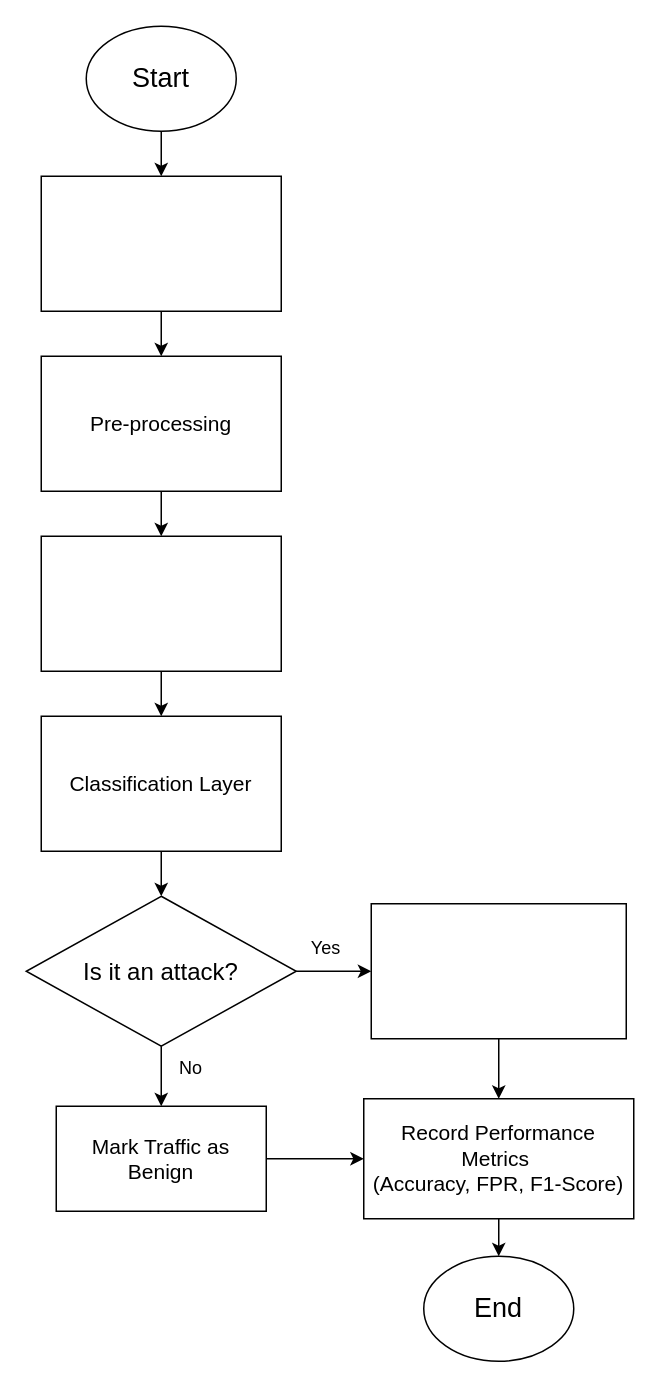
Image size: 660x1388. Some labels were removed from this diagram. Here are the shapes that lost their labels. From the top down, the centre of each, then its label:
At point 160,243: "Network Traffic Ingestion (Benchmark Datasets)".
At point 160,603: "Deep Learning Component".
At point 498,970: "Log and Classify Threat (DoS, Brute Force, etc".
